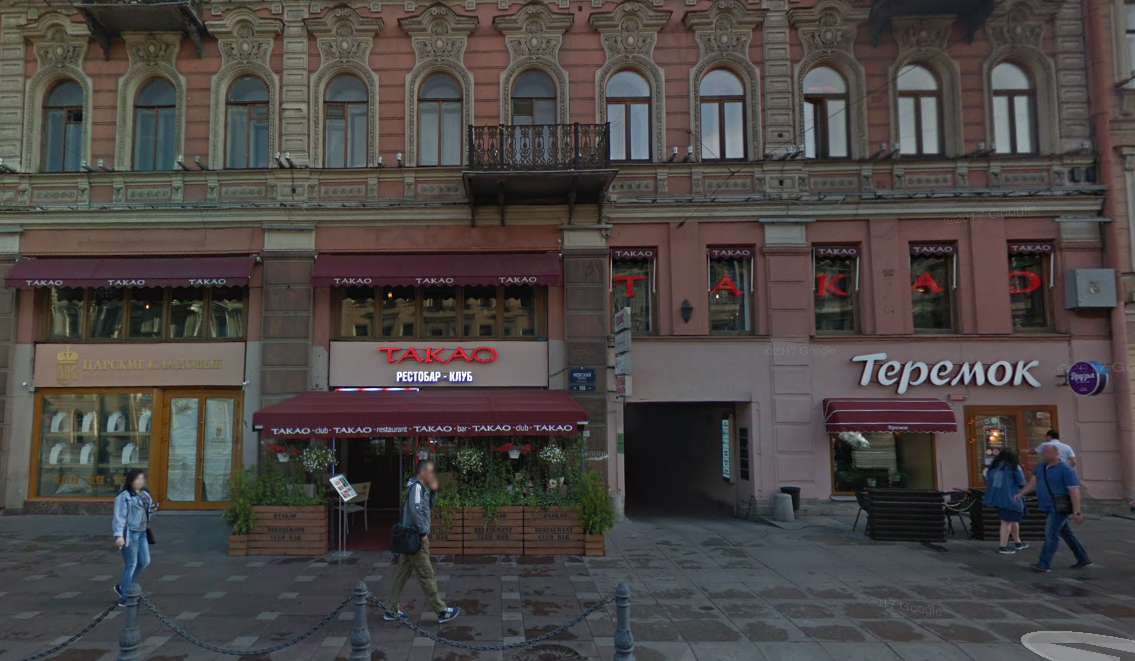arch: (622, 394, 761, 530)
cantilever: (598, 310, 638, 403), (1056, 347, 1108, 397)
signboard: (330, 340, 543, 385), (854, 350, 1041, 394), (37, 343, 249, 379)
window: (32, 388, 157, 501), (989, 50, 1049, 158), (31, 70, 88, 176), (408, 65, 465, 166), (892, 57, 947, 161), (218, 69, 272, 172), (799, 60, 855, 159), (1008, 241, 1066, 335), (602, 63, 657, 162), (708, 242, 761, 344), (697, 61, 751, 161), (813, 243, 871, 336), (130, 71, 181, 175), (911, 240, 965, 335), (324, 68, 370, 171), (513, 68, 563, 162), (611, 253, 658, 340)
